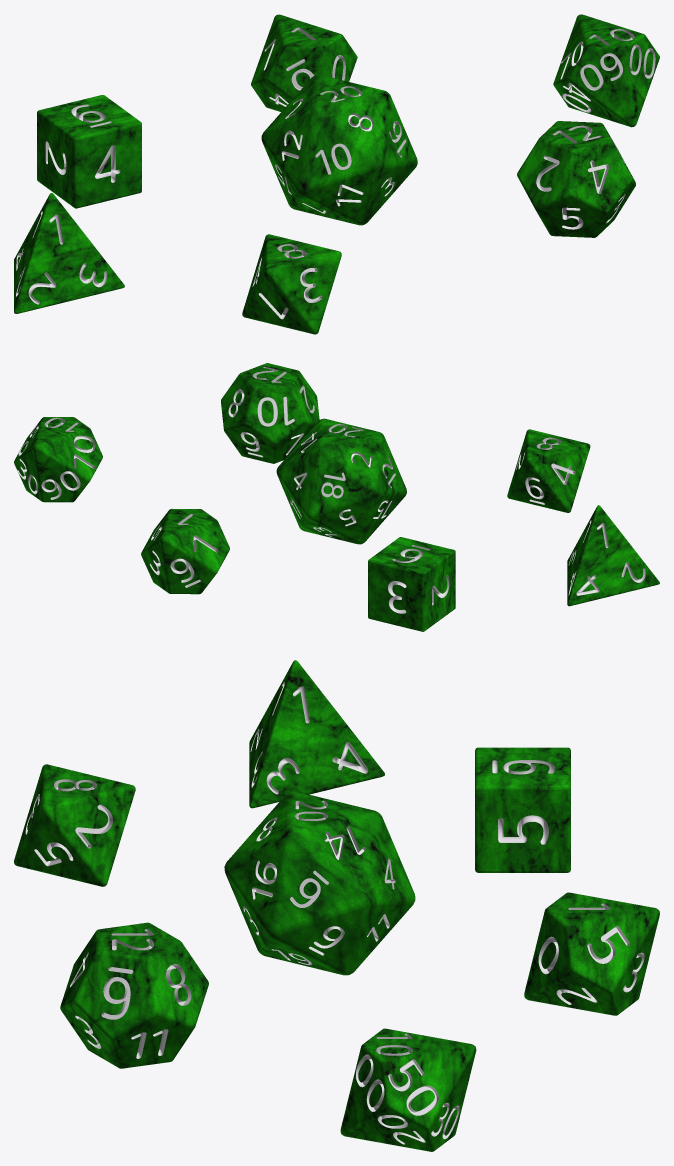
The model's file is LaudoStudioGreenMarbleDiceSet.glb.
3 views of the same model, one above another, from view 1: azimuth 30°, elevation 25°; view 2: azimuth 150°, elevation 25°; view 3: azimuth 270°, elevation 25° (orthographic). The views are drawn at different scales.
Parts seen in each view (by area): view 1: D20, D12, D6, D10 100, D4, D8, D10; view 2: D20, D12, D6, D10 100, D10, D4, D8; view 3: D20, D12, D10 100, D10, D6, D4, D8.
Boxes of the visible parts, box(x1,y1,x2,y2) form: D20: box(261, 74, 417, 225); D12: box(517, 121, 635, 237); D6: box(37, 95, 141, 208); D10 100: box(553, 14, 659, 127); D4: box(14, 193, 124, 313); D8: box(242, 234, 341, 334); D10: box(251, 14, 357, 111); D20: box(276, 418, 406, 544); D12: box(221, 363, 319, 463); D6: box(368, 537, 455, 631); D10 100: box(14, 417, 102, 502); D10: box(141, 509, 229, 594); D4: box(567, 505, 659, 606); D8: box(507, 429, 590, 512); D20: box(224, 791, 415, 975); D12: box(60, 922, 208, 1068); D10 100: box(340, 1028, 476, 1151); D10: box(524, 892, 659, 1015); D6: box(475, 747, 570, 872); D4: box(249, 660, 384, 808); D8: box(14, 764, 135, 886).
Bounding box in the file's own units: 12.88 × 2.07 × 8.4.
8 materials, 7 textured.
